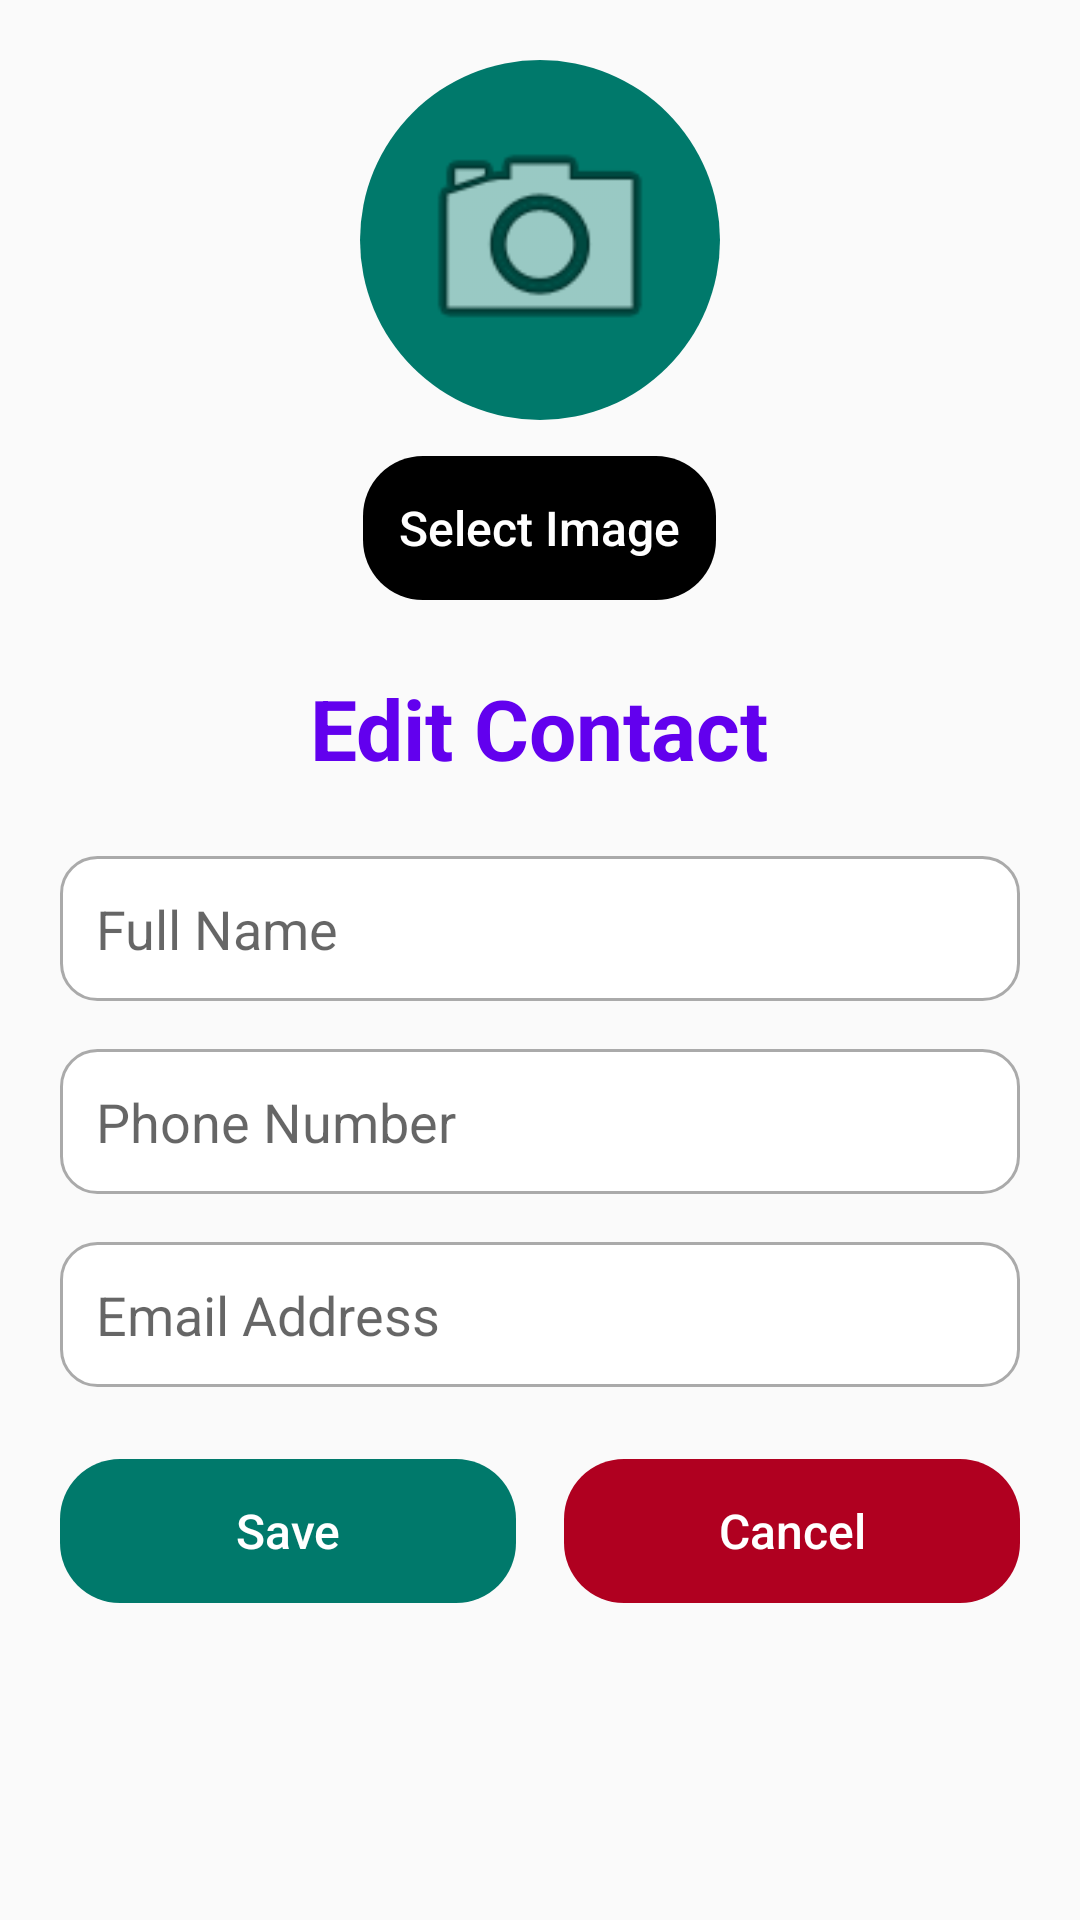

Icons on this 1080px×1920px Android screen, each with the point to tap as (x=x, y=y):
Contact Image: (x=540, y=240)
